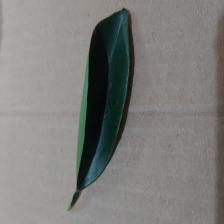healthy: (66, 10, 137, 195)
